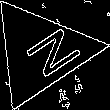N_SW: (5, 20, 76, 83)
